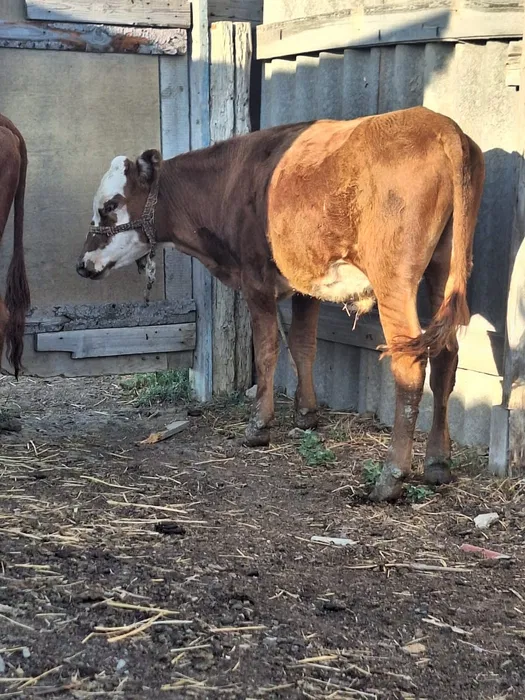cow: (80, 108, 492, 487)
